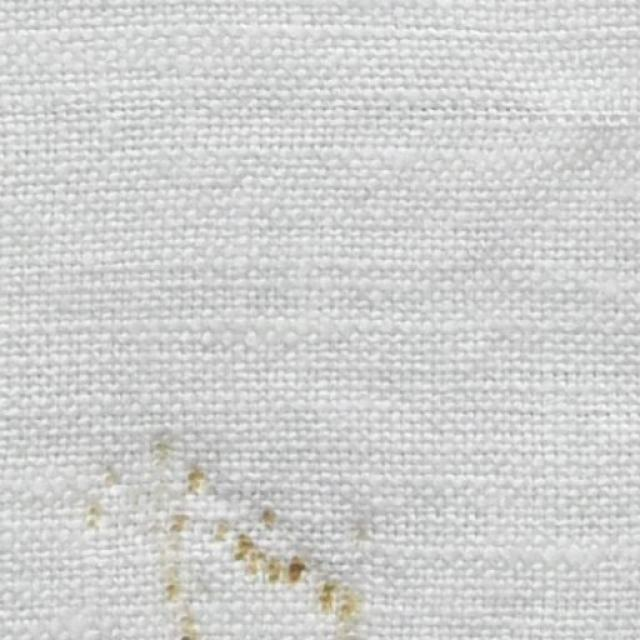Stain: (73, 446, 379, 640)
